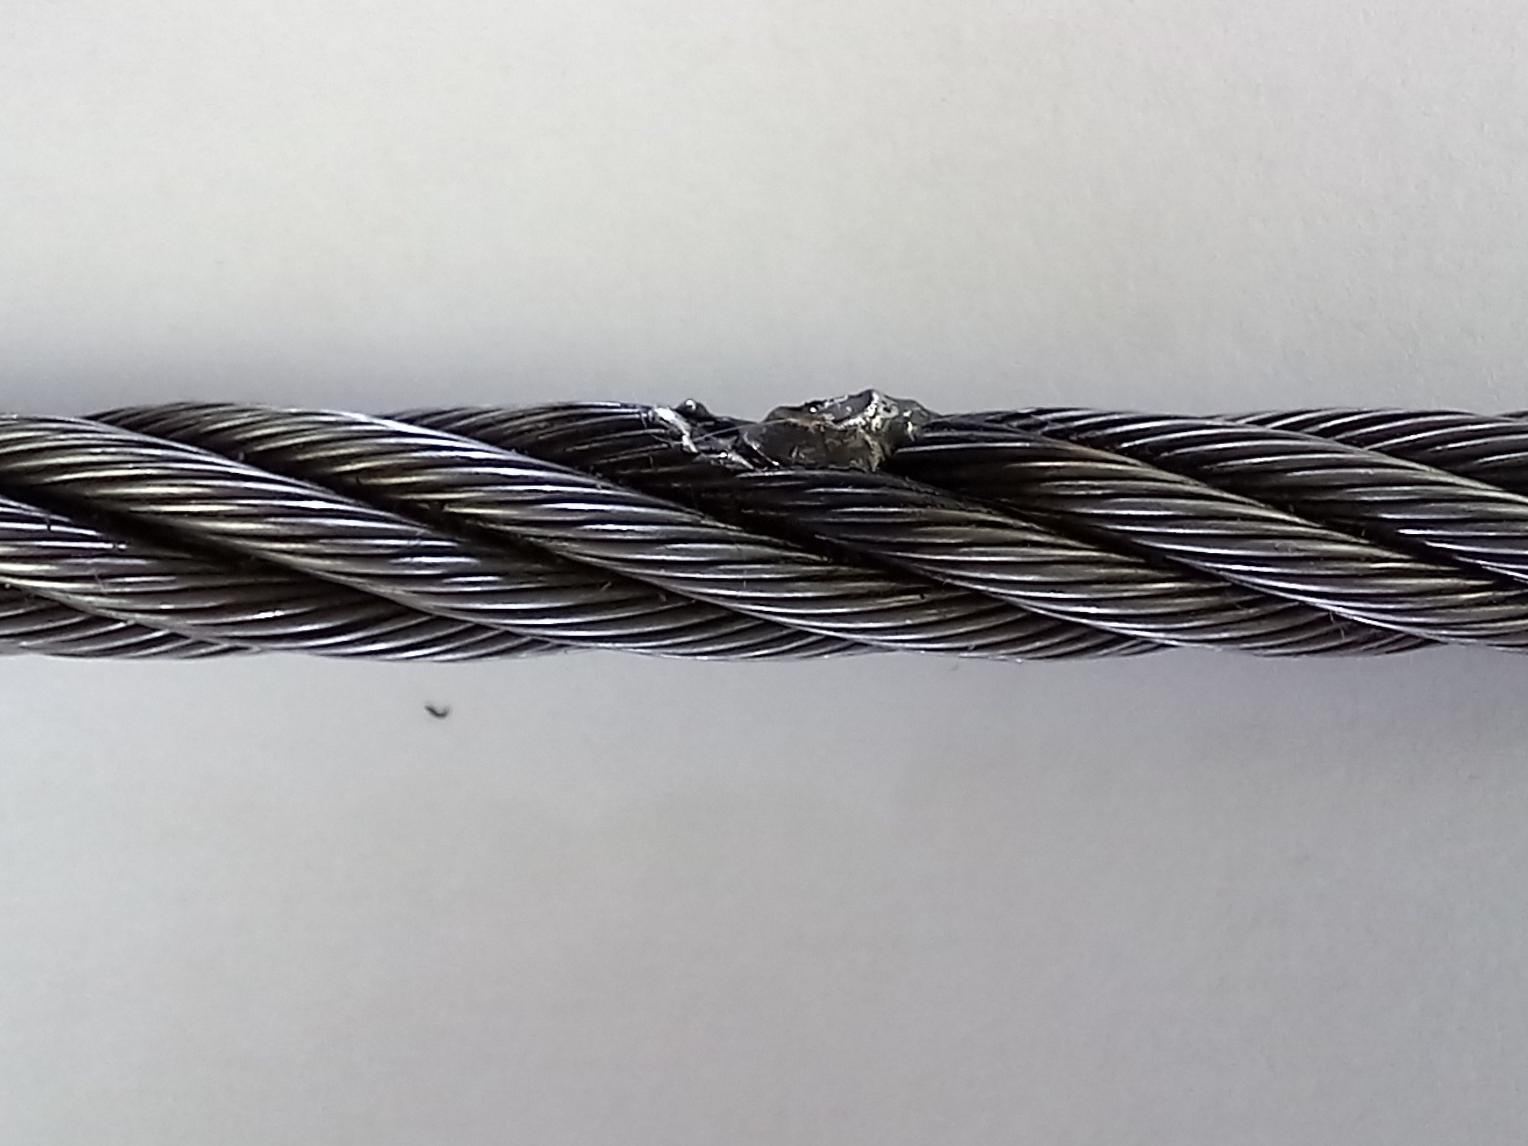thunderbolt: (641, 376, 950, 485)
